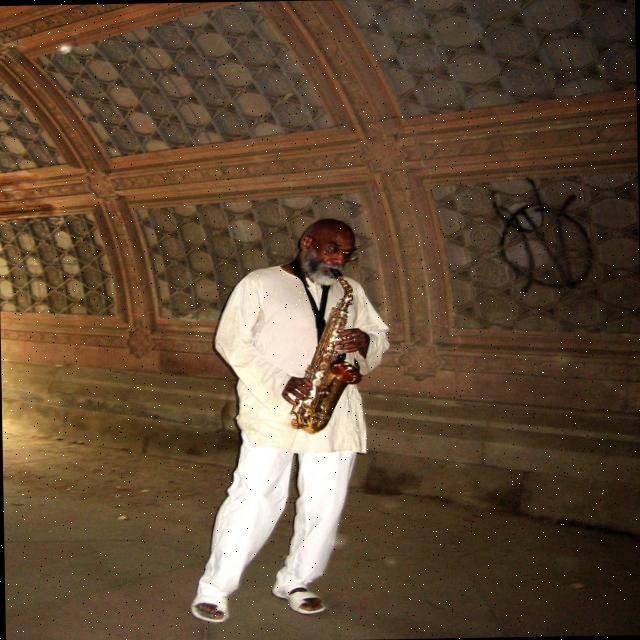saxophone: (285, 264, 372, 438)
